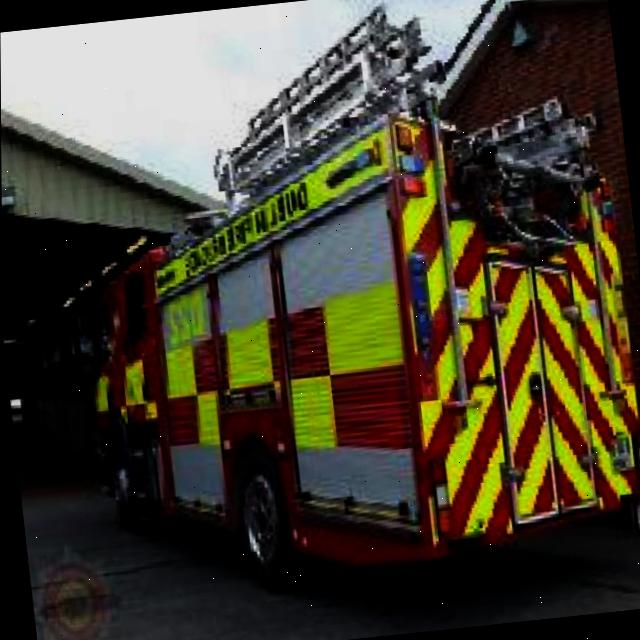emergency: (31, 0, 640, 613)
